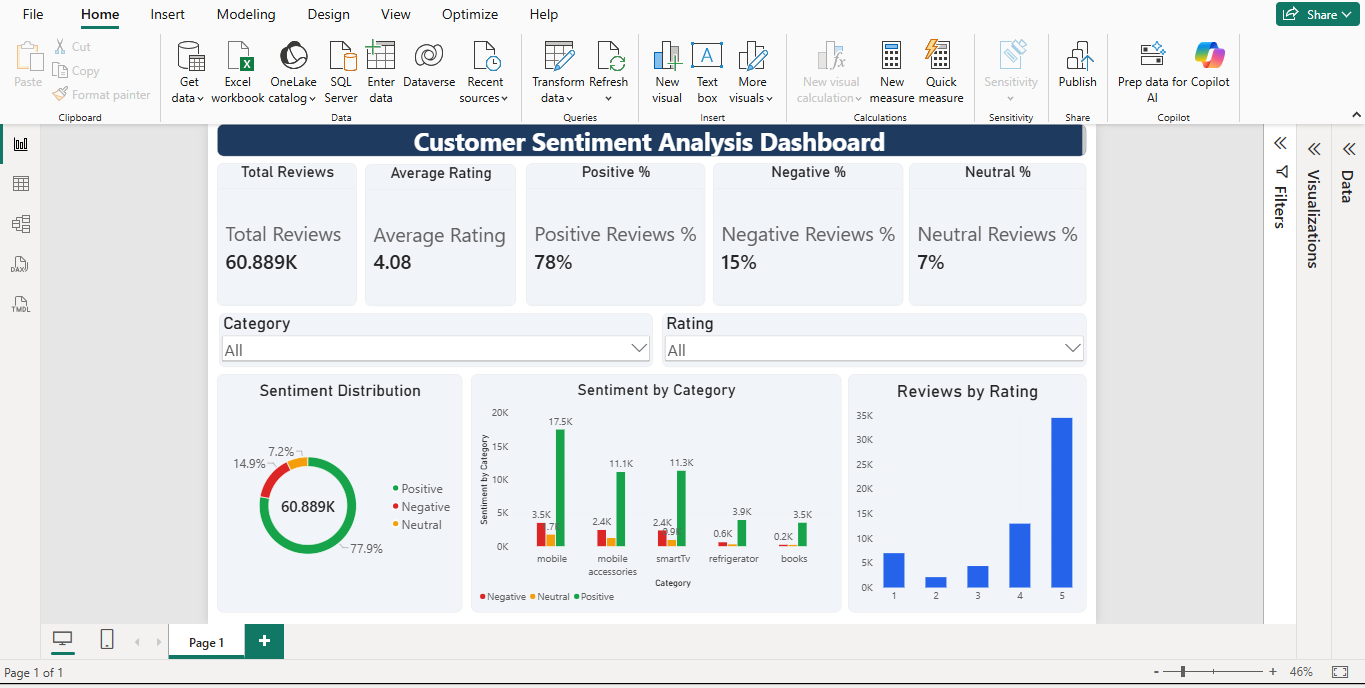

This screenshot's page, from the dashboard's own definition file:
{"tool":"powerbi","page":{"name":"Page 1","canvas":[1920,1080],"ordinal":0},"visuals":[{"type":"textbox","box":[19.6,0,1878.3,69.6],"z":0},{"type":"cardVisual","title":"Total Reviews","fields":{"Data":["CountNonNull(Amazon Review Data Web Scrapping - Amazon Review Data Web Scrapping.Review_text)"]},"box":[19.6,84.8,302.2,308.7],"z":1},{"type":"cardVisual","title":"Average Rating","fields":{"Data":["Avg(Amazon Review Data Web Scrapping - Amazon Review Data Web Scrapping.Rating)"]},"box":[339.1,87,326.1,306.5],"z":2},{"type":"cardVisual","title":"Positive %","fields":{"Data":["Amazon Review.Positive Reviews %"]},"box":[687,84.8,387,308.7],"z":4},{"type":"cardVisual","title":"Negative %","fields":{"Data":["Amazon Review.Negative Reviews %"]},"box":[1091.3,84.8,410.9,308.7],"z":5},{"type":"cardVisual","title":"Neutral %","fields":{"Data":["Amazon Review.Neutral Reviews %"]},"box":[1515.2,84.8,382.6,308.7],"z":7},{"type":"donutChart","title":"Sentiment Distribution","fields":{"Category":["Amazon Review.Own_Rating"],"Y":["CountNonNull(Amazon Review.Review_text)"]},"box":[19.6,539.1,530.4,515.2],"z":8},{"type":"clusteredColumnChart","title":"Sentiment by Category","fields":{"Category":["Amazon Review.Category"],"Series":["Amazon Review.Own_Rating"],"Y":["CountNonNull(Amazon Review.Review_text)"]},"box":[567.4,539.1,800,515.2],"z":9},{"type":"slicer","fields":{"Values":["Amazon Review.Category"]},"box":[23.9,408.7,937,117.4],"z":10},{"type":"slicer","fields":{"Values":["Amazon Review.Rating"]},"box":[980.4,408.7,917.4,117.4],"z":11},{"type":"clusteredColumnChart","title":"Reviews by Rating","fields":{"Category":["Amazon Review.Rating"],"Y":["CountNonNull(Amazon Review.Review_text)"]},"box":[1382.6,539.1,515.2,515.2],"z":12}]}

Visuals, with their boxes on the page's 1920x1080 design canvas (x1, y1, x2, y2). These are canvas units, not pixel positions in the 1365x688 screenshot, which may show the page scaled, cropped or inside an application window:
textbox: box(20, 0, 1898, 70)
"Total Reviews" cardVisual: box(20, 85, 322, 394)
"Average Rating" cardVisual: box(339, 87, 665, 394)
"Positive %" cardVisual: box(687, 85, 1074, 394)
"Negative %" cardVisual: box(1091, 85, 1502, 394)
"Neutral %" cardVisual: box(1515, 85, 1898, 394)
"Sentiment Distribution" donutChart: box(20, 539, 550, 1054)
"Sentiment by Category" clusteredColumnChart: box(567, 539, 1367, 1054)
slicer - Amazon Review.Category: box(24, 409, 961, 526)
slicer - Amazon Review.Rating: box(980, 409, 1898, 526)
"Reviews by Rating" clusteredColumnChart: box(1383, 539, 1898, 1054)
